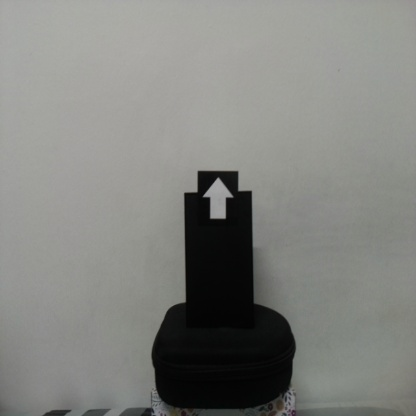id_1: (197, 171, 239, 231)
